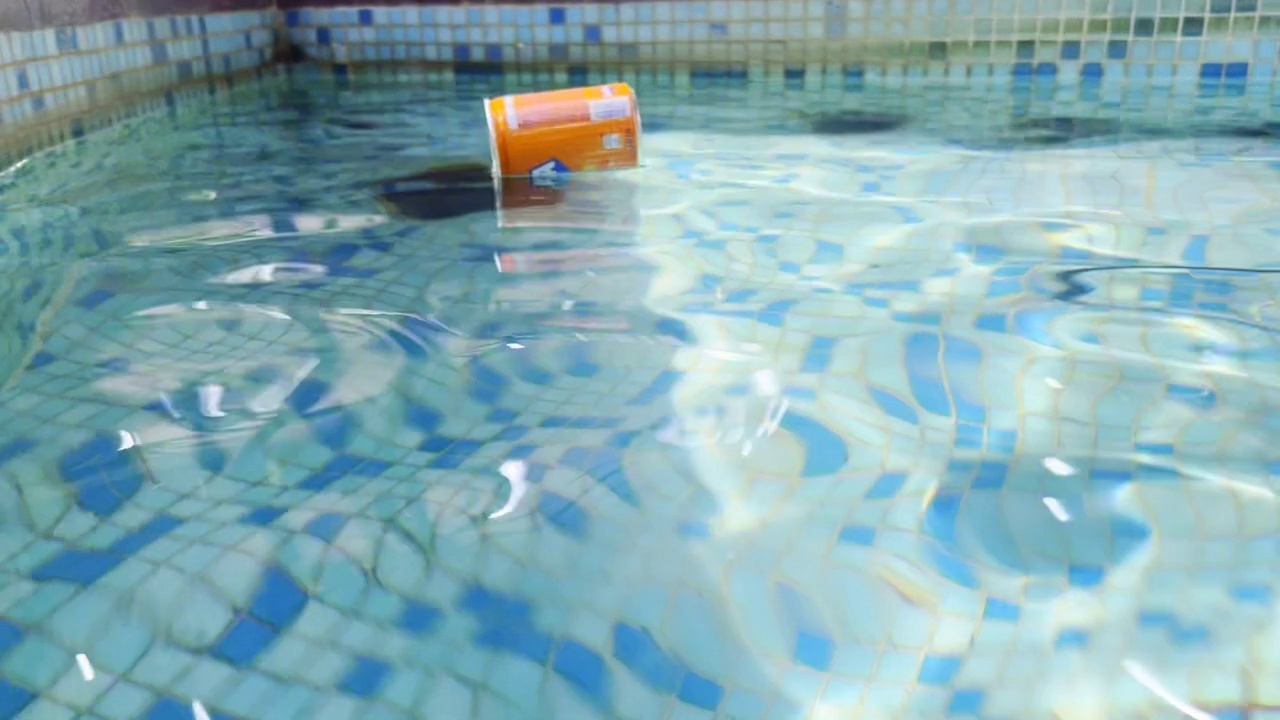debris: (473, 79, 647, 177)
